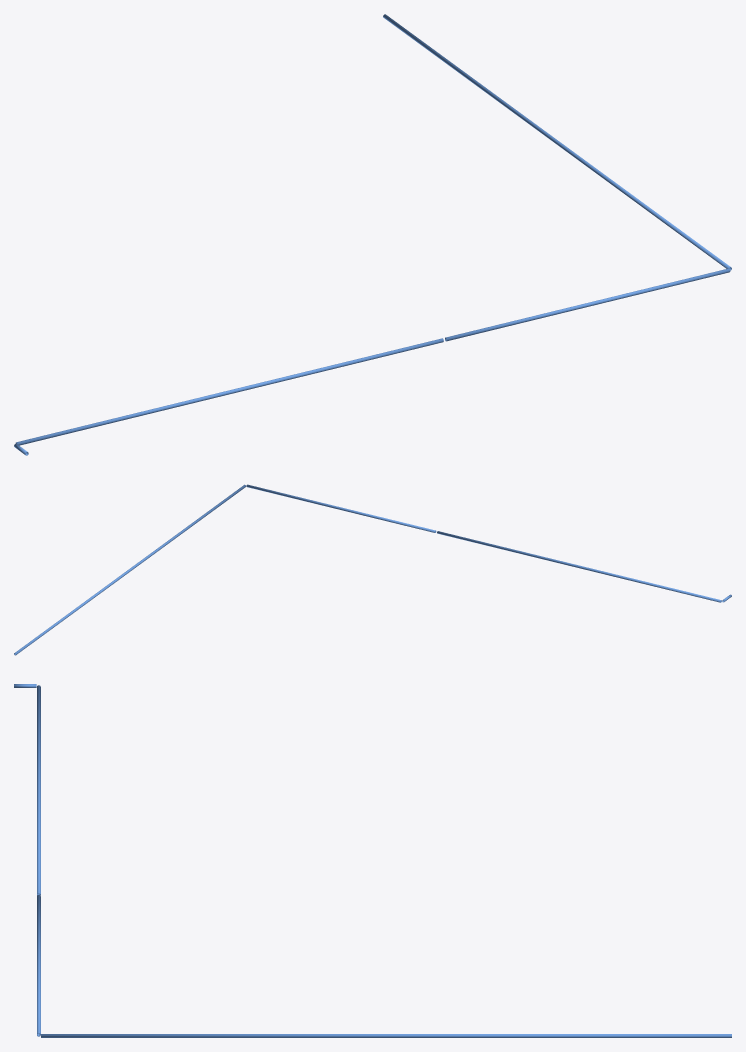
File: pipes_supply__plumbing__0795c940.glb
3 views of the same model, one above another, from view 1: azimuth 30°, elevation 25°; view 2: azimuth 150°, elevation 25°; view 3: azimuth 270°, elevation 25° (orthographic). The views are drawn at different scales.
Parts seen in each view (by area): view 1: pipe_supply_cold_trunk_flo_s__pex; view 2: pipe_supply_cold_trunk_flo_s__pex; view 3: pipe_supply_cold_trunk_flo_s__pex.
Boxes of the visible parts, x1,y1,x2,y2 form: pipe_supply_cold_trunk_flo_s__pex: (14,14,731,455); pipe_supply_cold_trunk_flo_s__pex: (14,484,731,655); pipe_supply_cold_trunk_flo_s__pex: (14,684,731,1037).
Bounding box in the file's own units: 4.59 × 0.0222 × 3.96.
